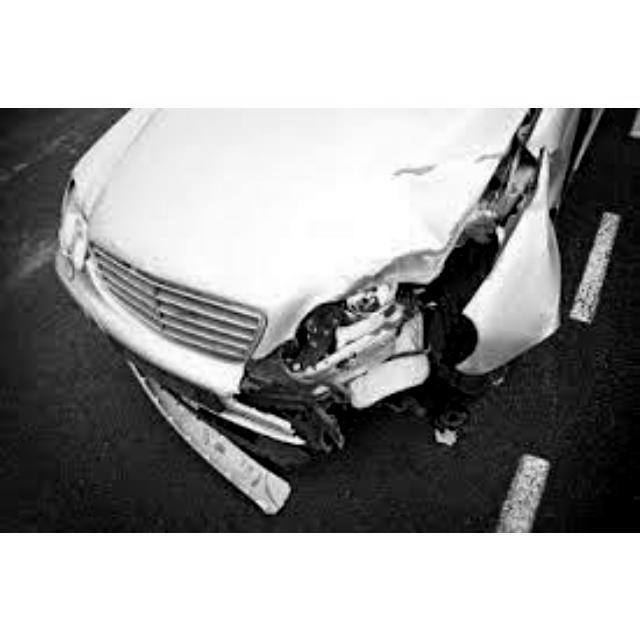bonnet-dent: (122, 107, 519, 321)
